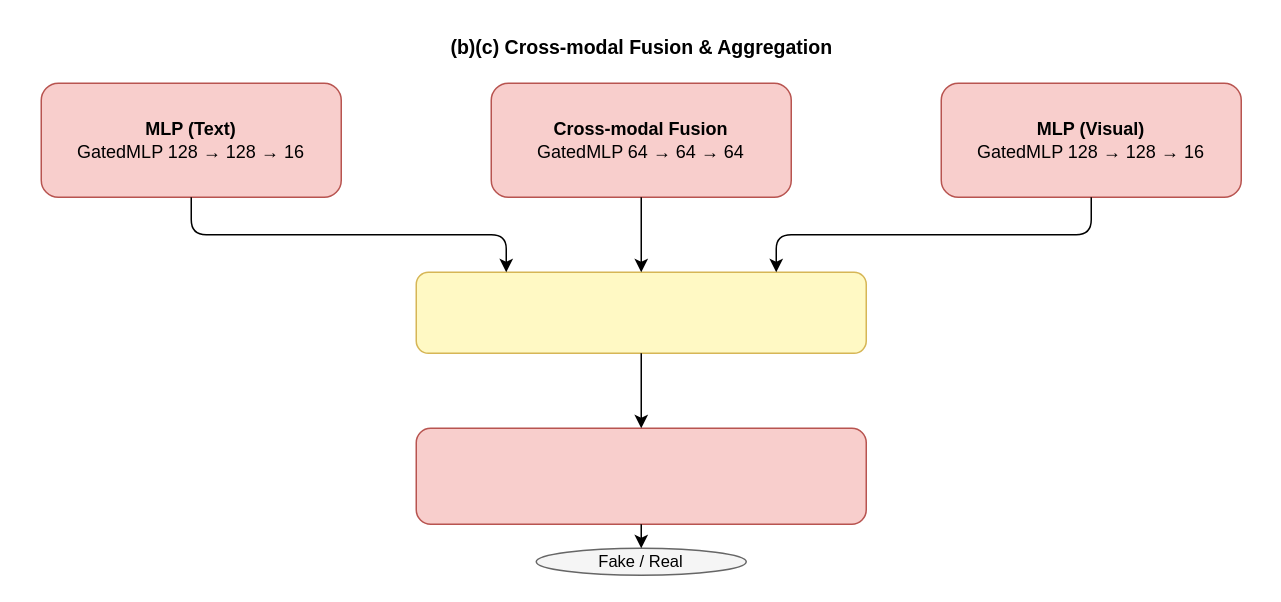
This 1281x602 diagram has some shape labels left out. The shapes that lost their labels are listed below. From the top down, each one's box as (x1, y1, x2, y2) in pixels, then its label:
(415, 271, 866, 353): Attention Mechanism Squeeze-Excitation (không đổi)
(415, 427, 866, 524): Classifier GatedMLP (96 → 64) → GatedMLP (64 → 2)
